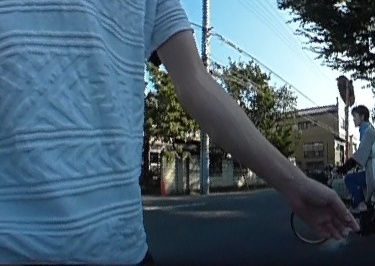person: (344, 104, 375, 206)
